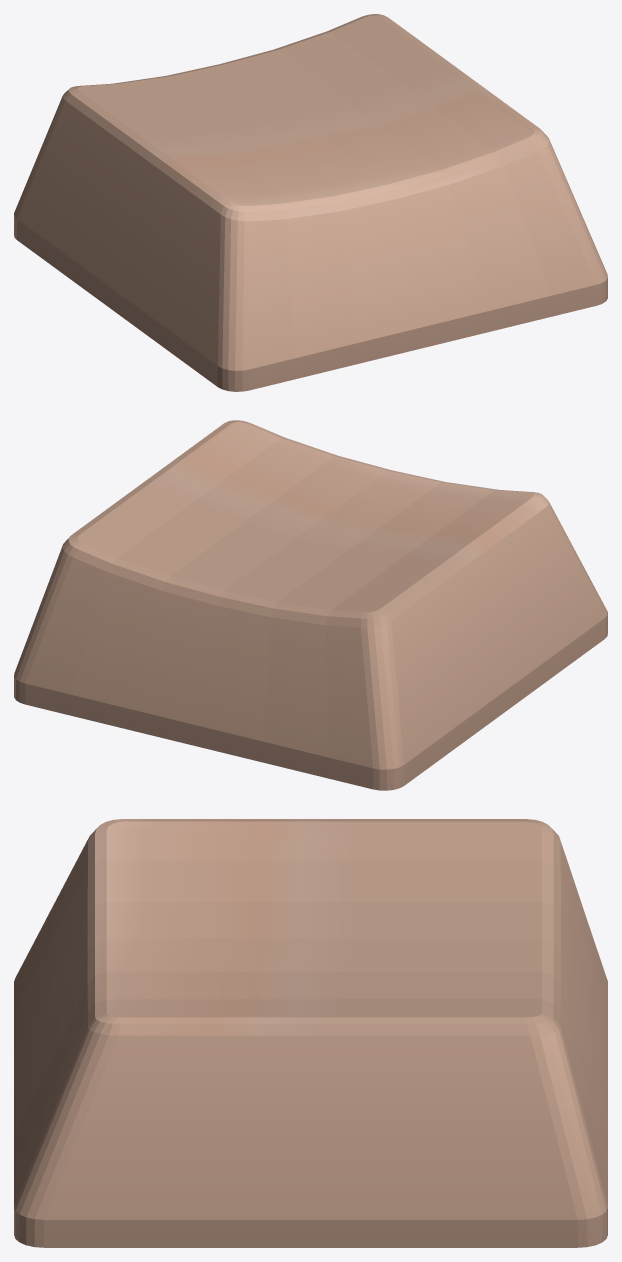
File: keyboard04.fbx
3 views of the same model, one above another, from view 1: azimuth 30°, elevation 25°; view 2: azimuth 150°, elevation 25°; view 3: azimuth 270°, elevation 25° (orthographic). The views are drawn at different scales.
Parts seen in each view (by area): view 1: KeyboardTouch.003; view 2: KeyboardTouch.003; view 3: KeyboardTouch.003.
Boxes of the visible parts, bbox=[...] form: KeyboardTouch.003: bbox=[14, 14, 607, 391]; KeyboardTouch.003: bbox=[14, 420, 607, 790]; KeyboardTouch.003: bbox=[14, 819, 607, 1247].
Bounding box in the file's own units: 200 × 75.34 × 200.
